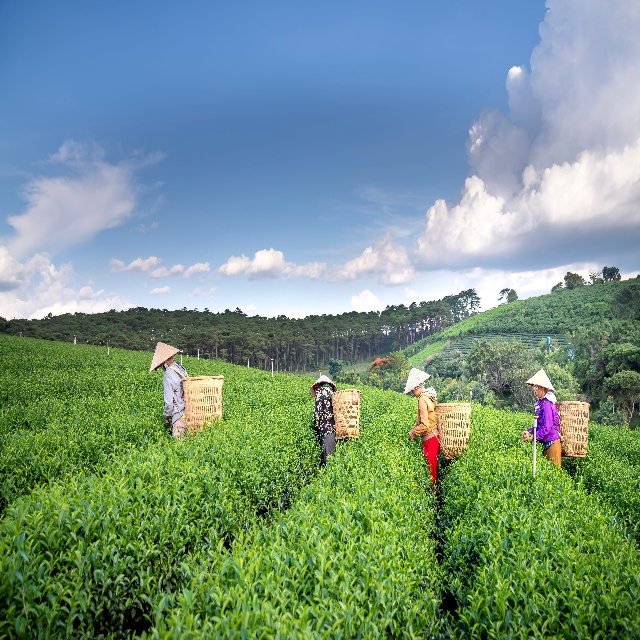Mascara: (162, 362, 168, 372)
Sin_guantes: (521, 430, 529, 438), (524, 435, 532, 442), (164, 418, 170, 423)
